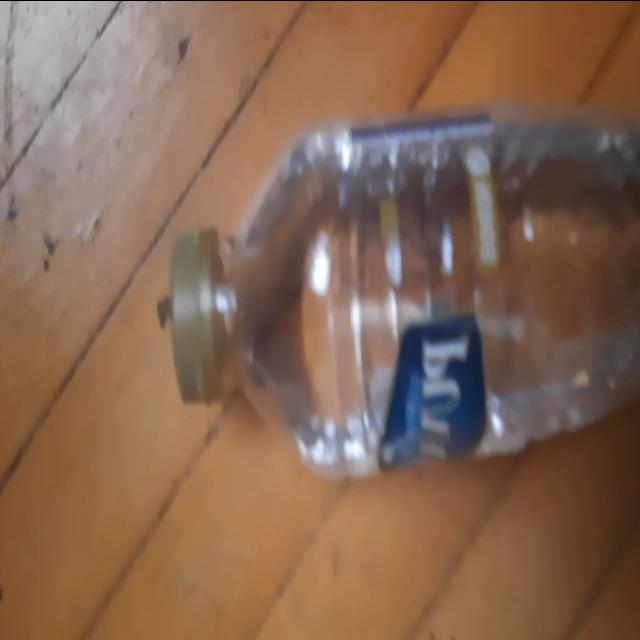Plastic: (159, 101, 640, 481), (332, 120, 501, 462), (176, 218, 226, 402)
